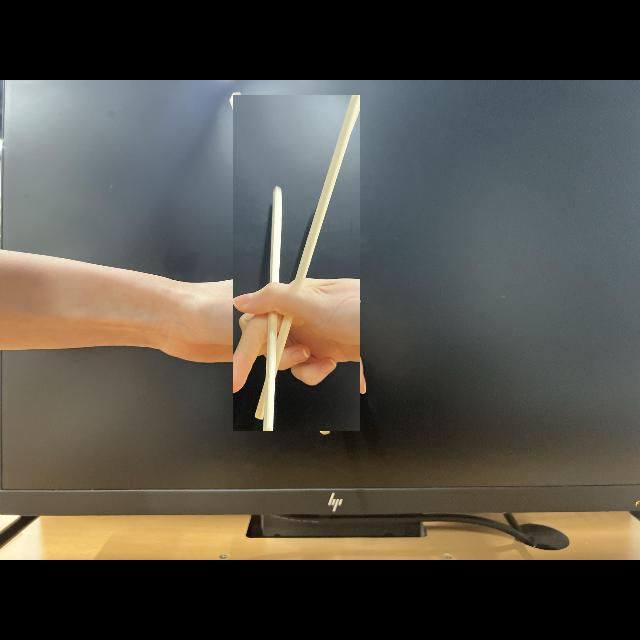stick: (232, 95, 360, 431)
